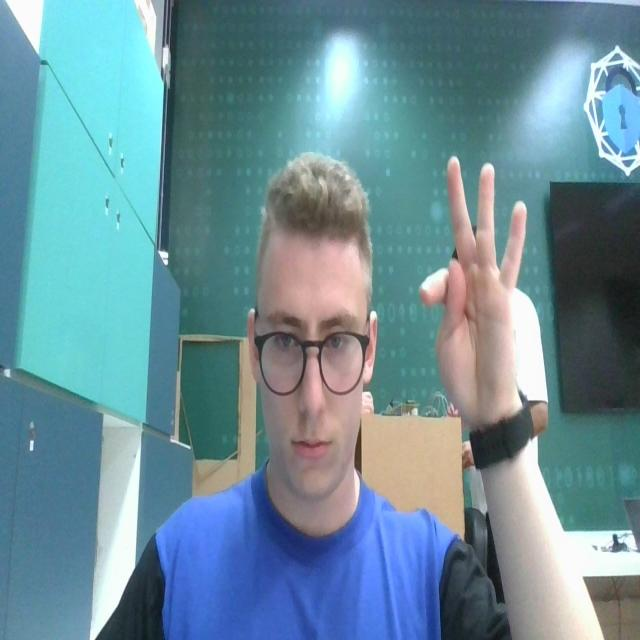T: (419, 155, 528, 421)
